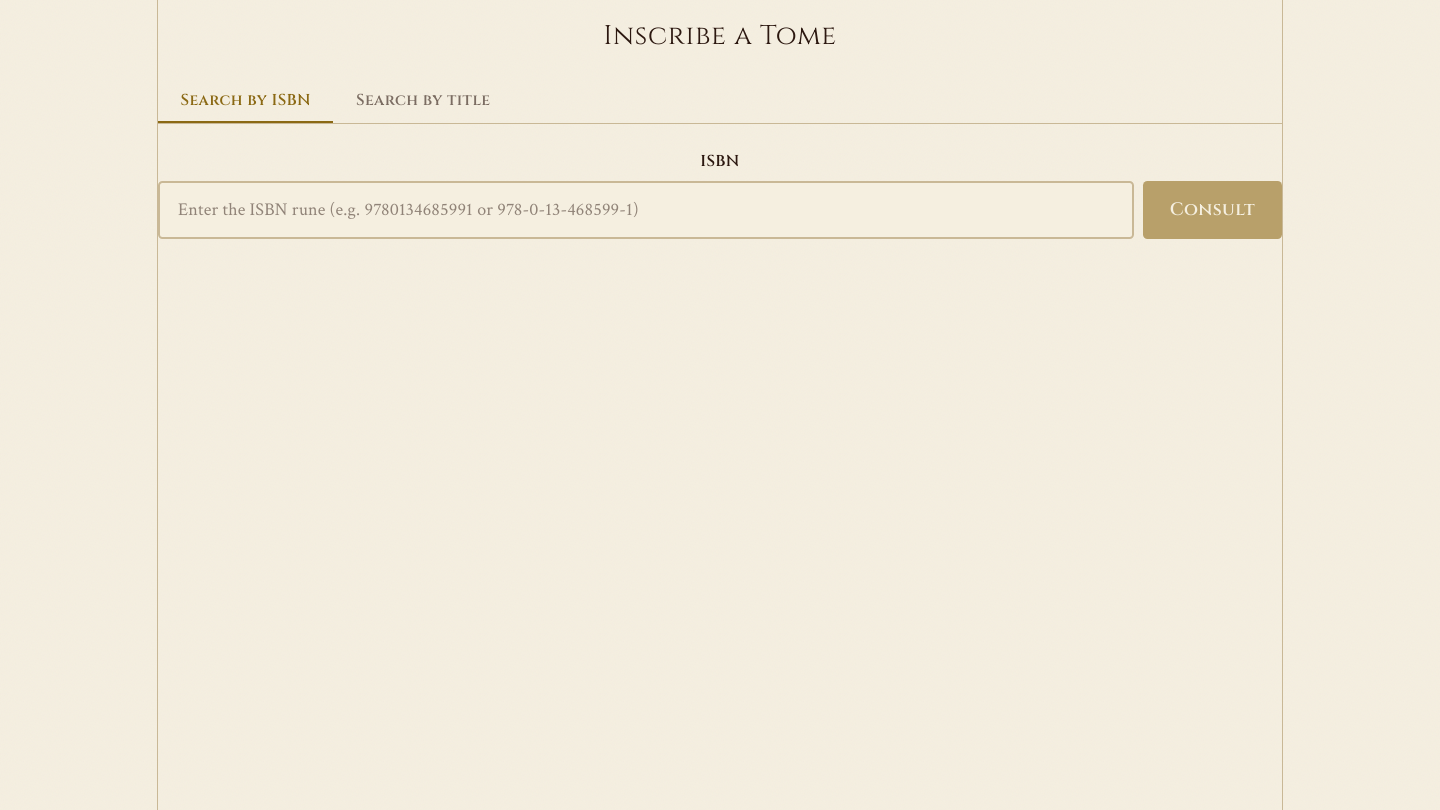
Test: AddBookPage › rejects invalid ISBN format without making a request
In the field labelled "ISBN": (646, 210) [158,181,1134,239], type "123"
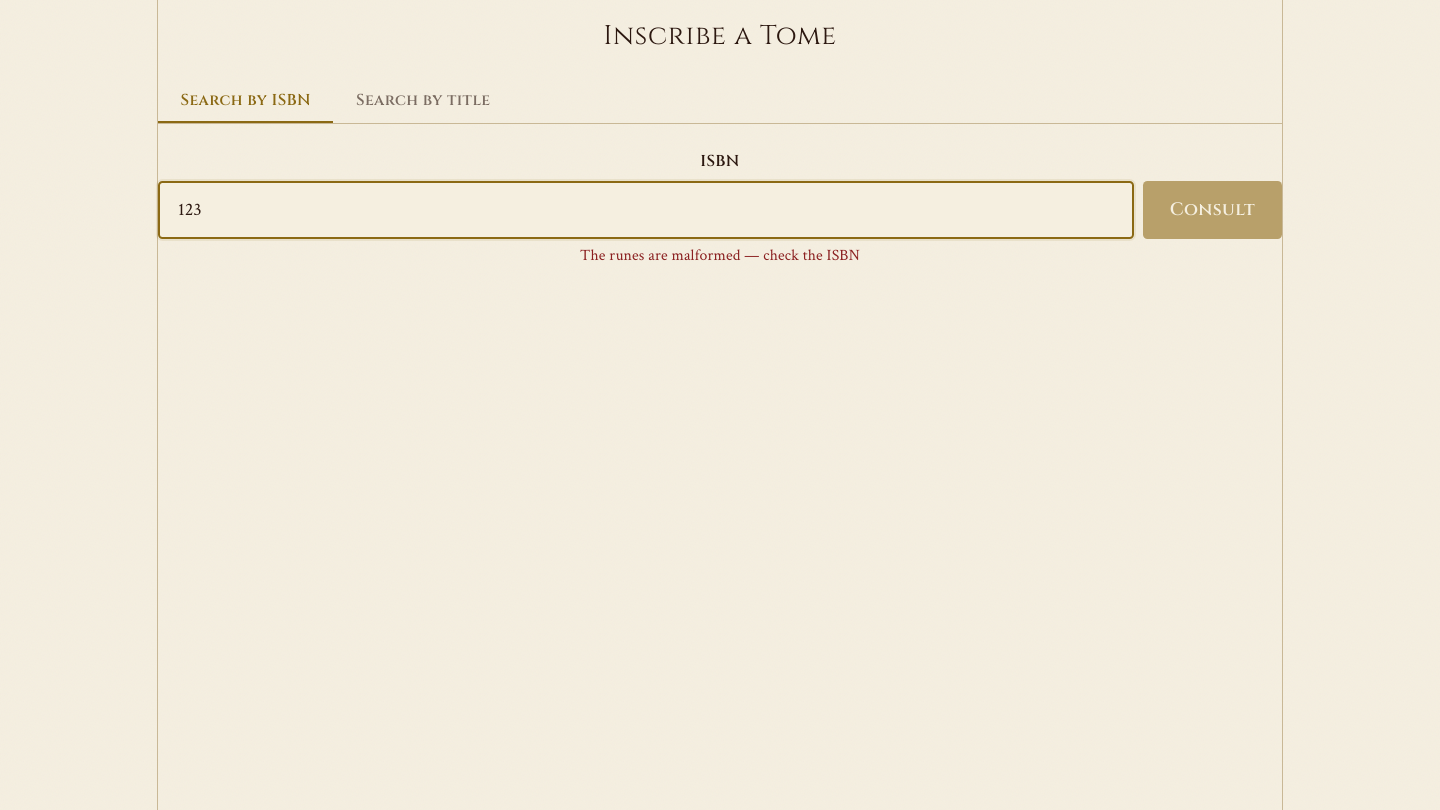
Expected: the button "Consult" is disabled, [1143,181,1282,239]
Expected: the text "The runes are malformed — check the ISBN" is shown, [580,246,860,266]
